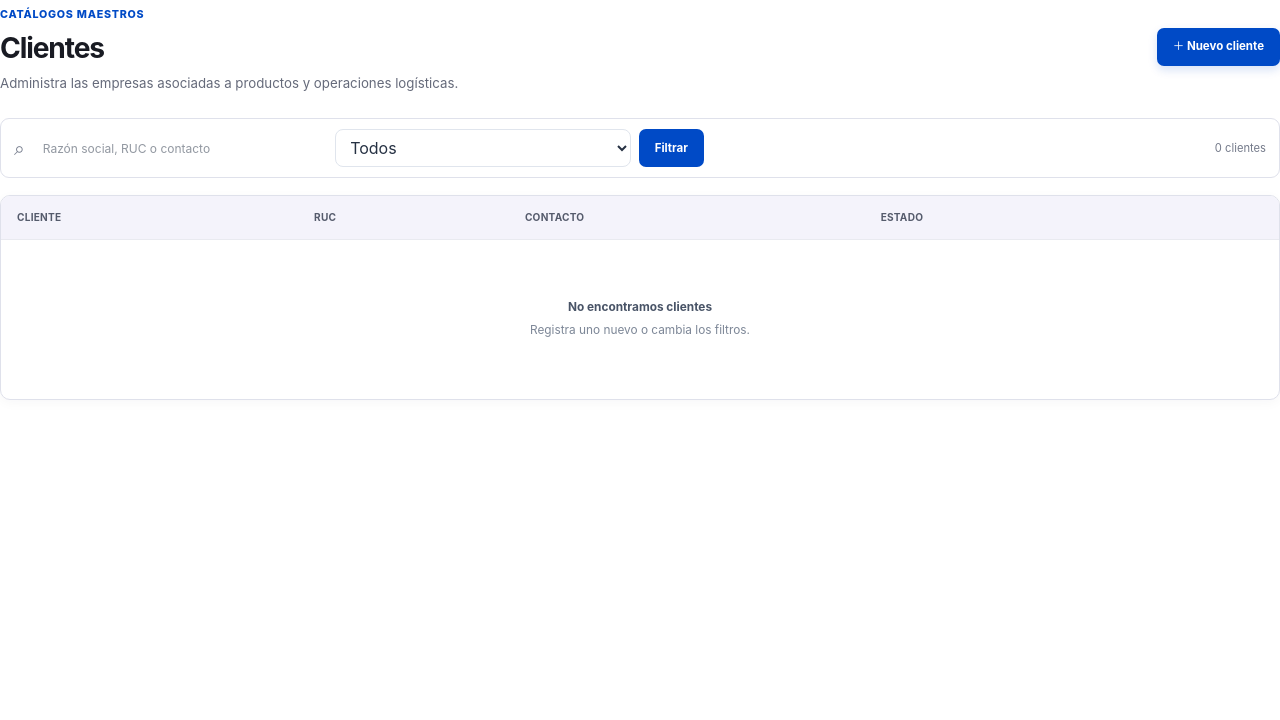
it: ClientsPage › rejects a RUC that does not contain exactly 11 digits
Click the button "＋ Nuevo cliente": (1218, 47) [1157,28,1279,66]
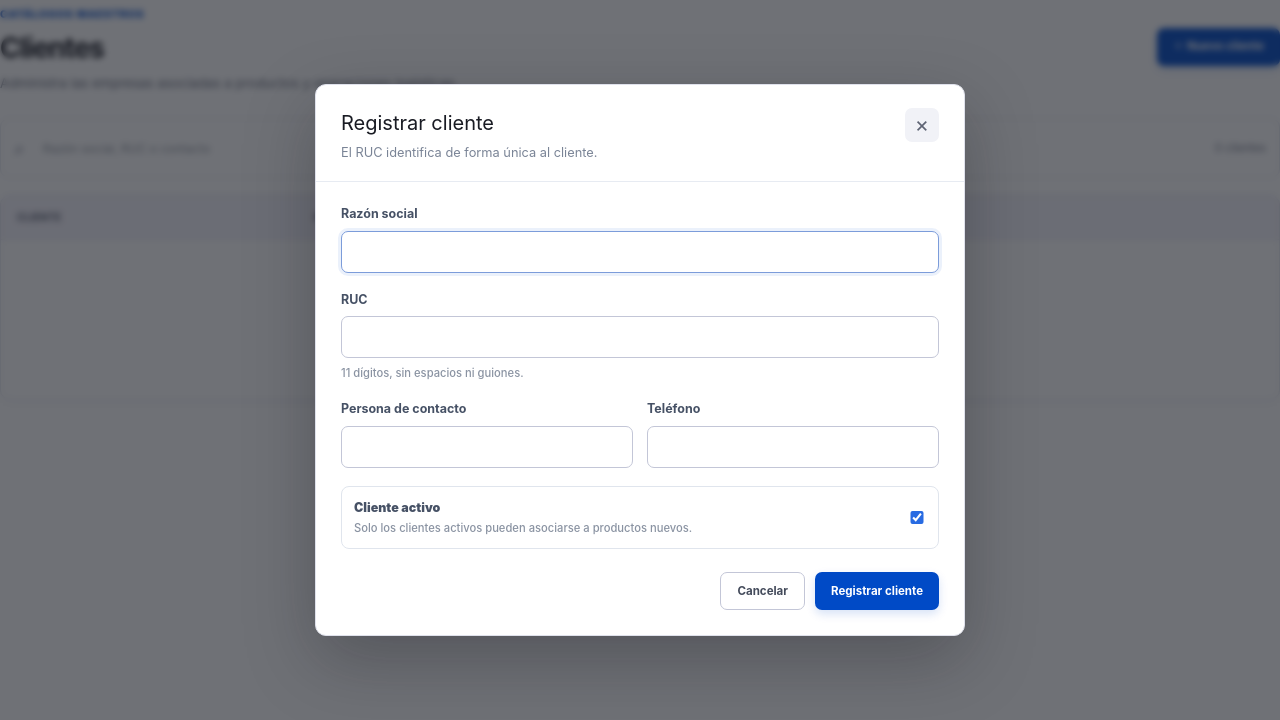
In the field labelled "Razón social": (640, 252) [341,231,939,273], type "Cliente Demo SAC"
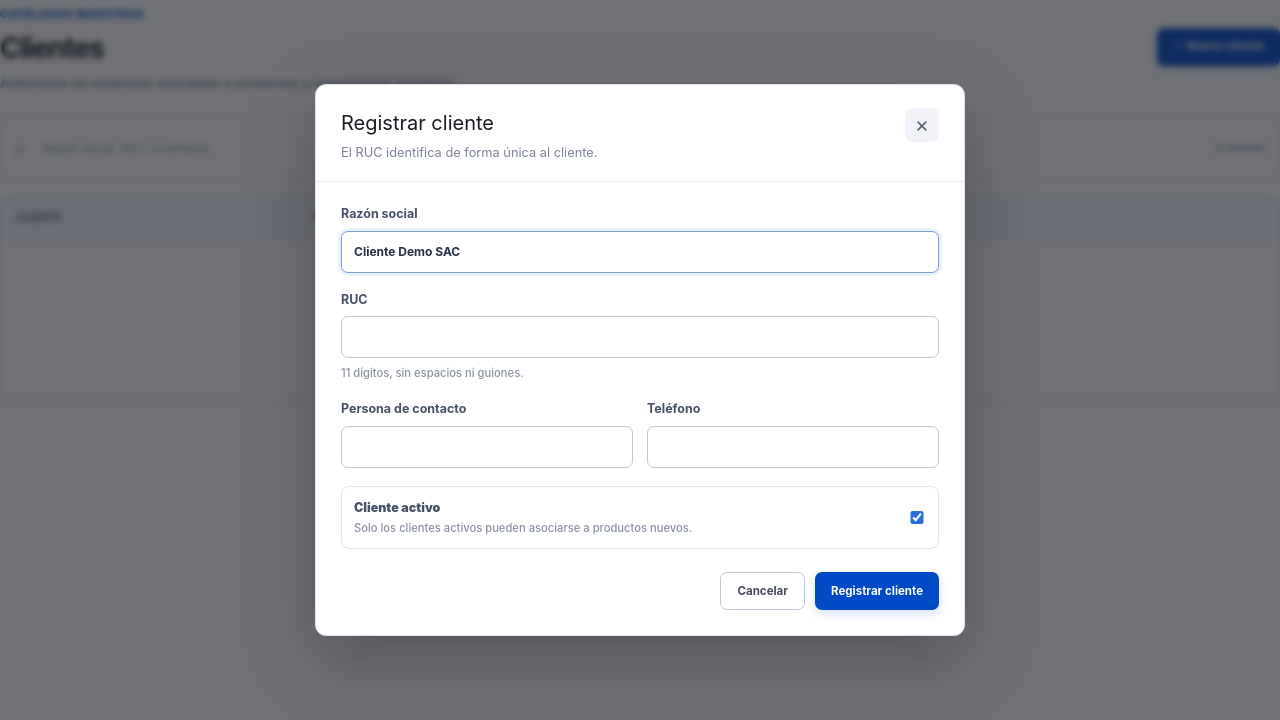
In the field labelled "RUC 11 dígitos, sin espacios ni guiones.": (640, 337) [341,316,939,358], type "1234567890"
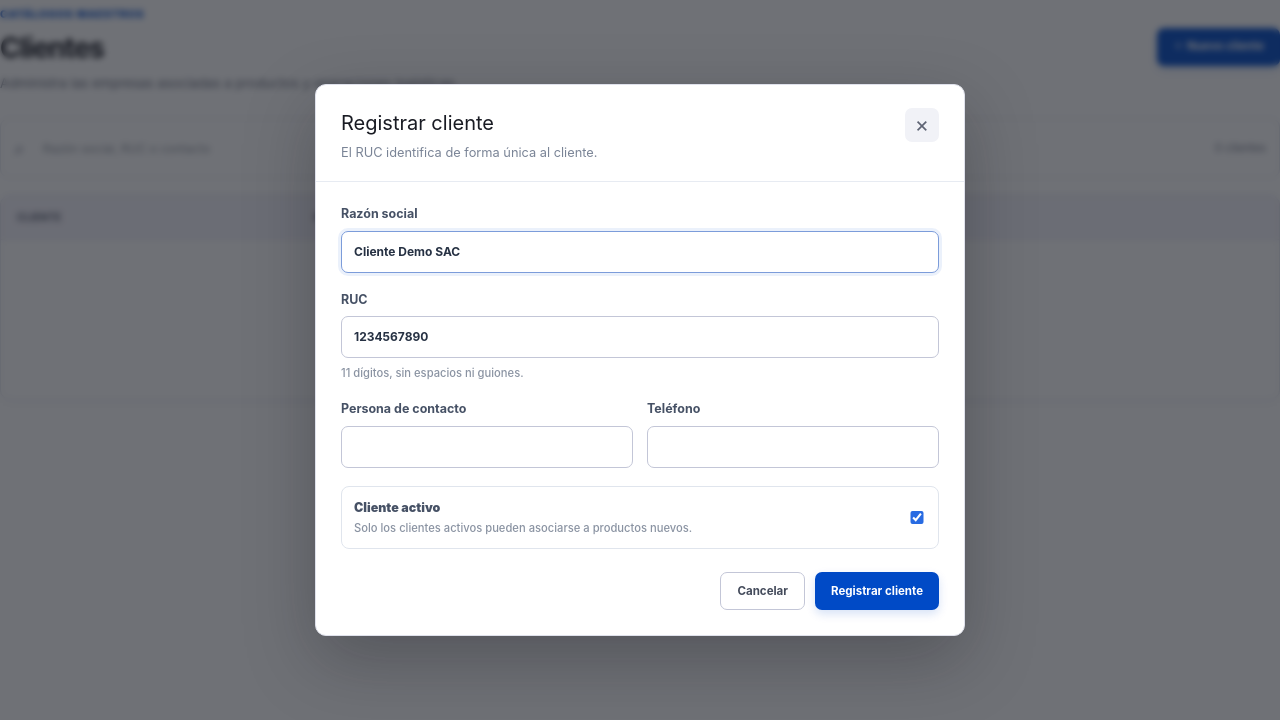
Click the button "Registrar cliente": (877, 591) [815,572,939,610]
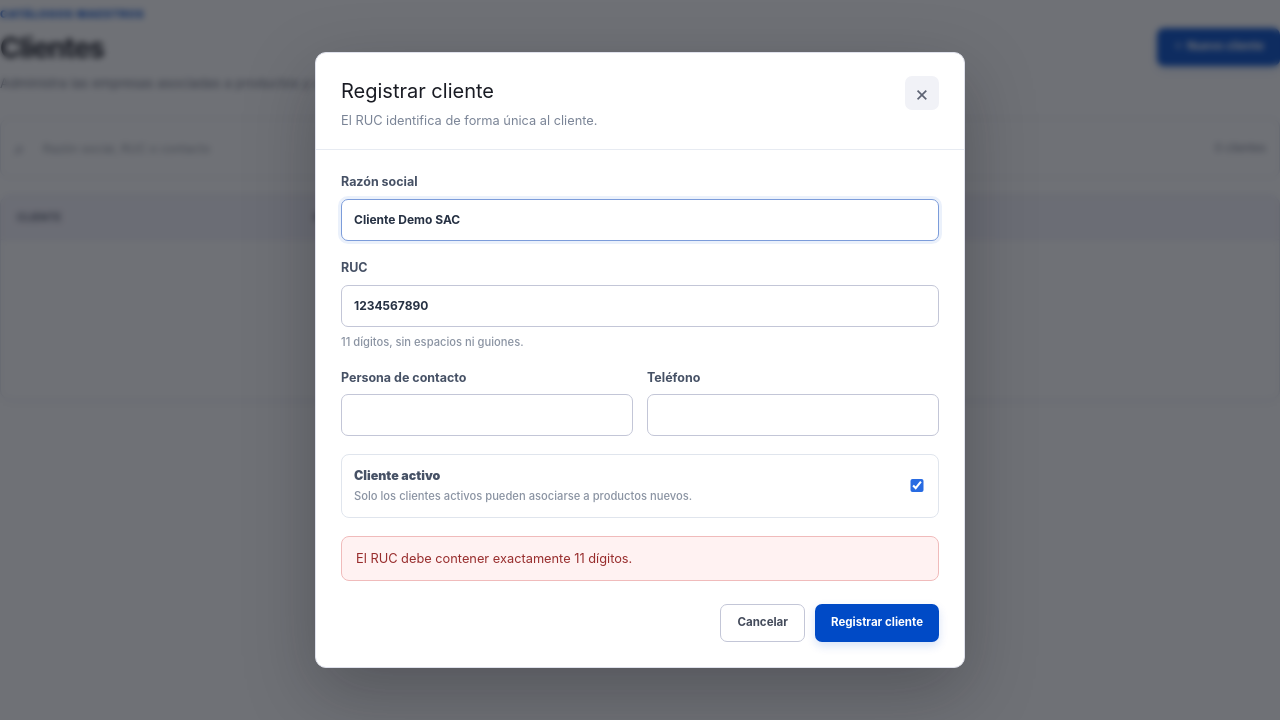
Expected: the message reads "El RUC debe contener exactamente 11 dígitos.", [356,551,632,566]
